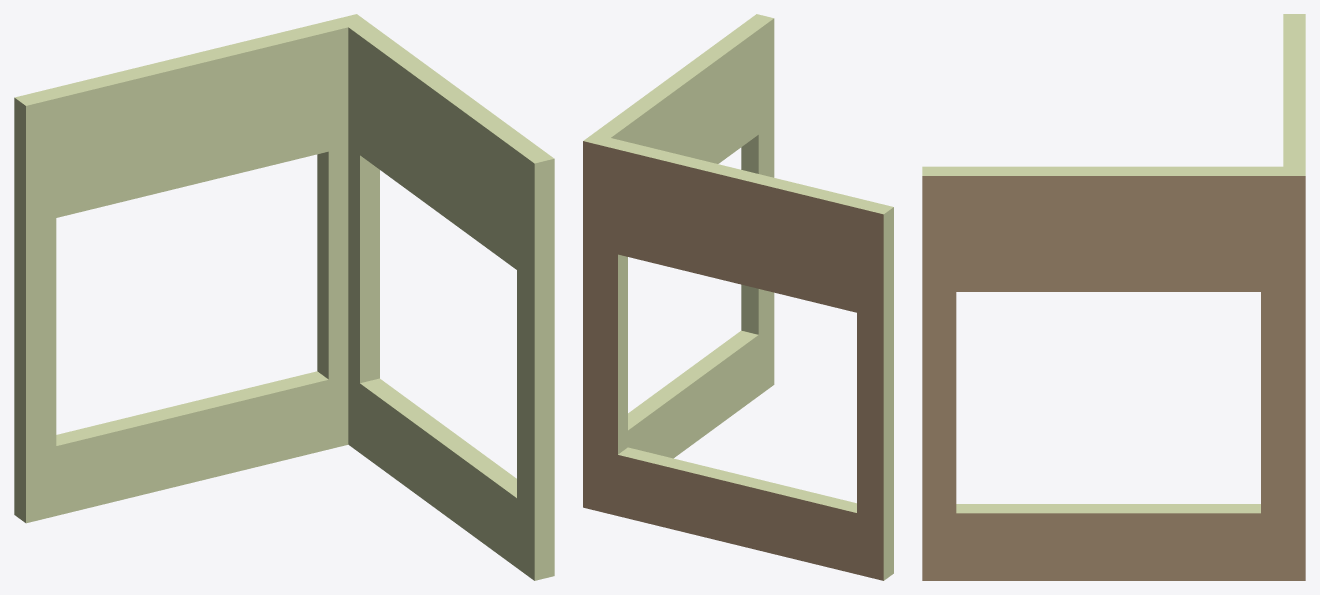
File: Wall2_C5_15.fbx
The picture shows the model from 3 angles, left to right: view 1: azimuth 30°, elevation 25°; view 2: azimuth 150°, elevation 25°; view 3: azimuth 270°, elevation 25°; orthographic projection. The views are drawn at different scales.
Parts seen in each view (by area): view 1: Wall2_C5_15; view 2: Wall2_C5_15; view 3: Wall2_C5_15.
Part boxes in pixels (x1,y1,x2,y2): Wall2_C5_15: (14, 14, 554, 580); Wall2_C5_15: (583, 14, 893, 580); Wall2_C5_15: (922, 14, 1305, 580).
Size of the model in its own units: 258 by 300 by 258.
